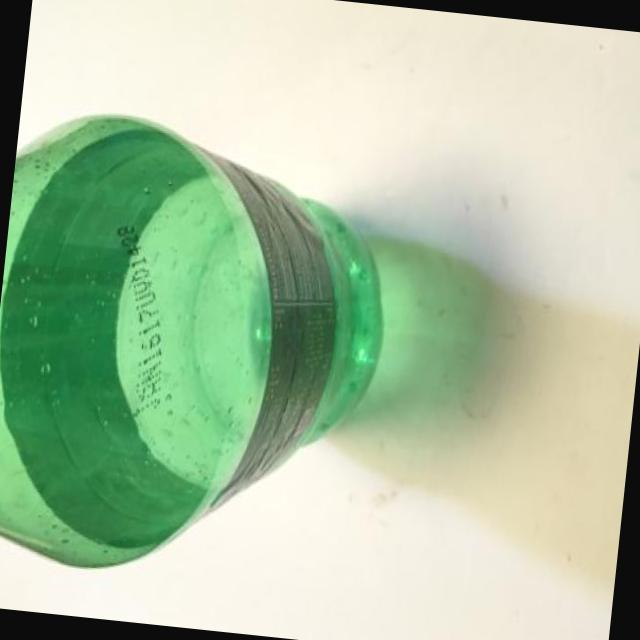Recycle: (0, 99, 403, 598)
